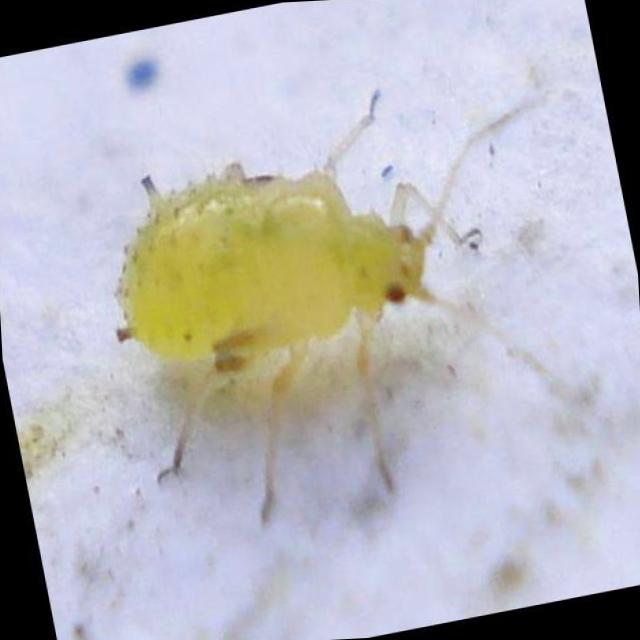aphid: (40, 47, 630, 575)
